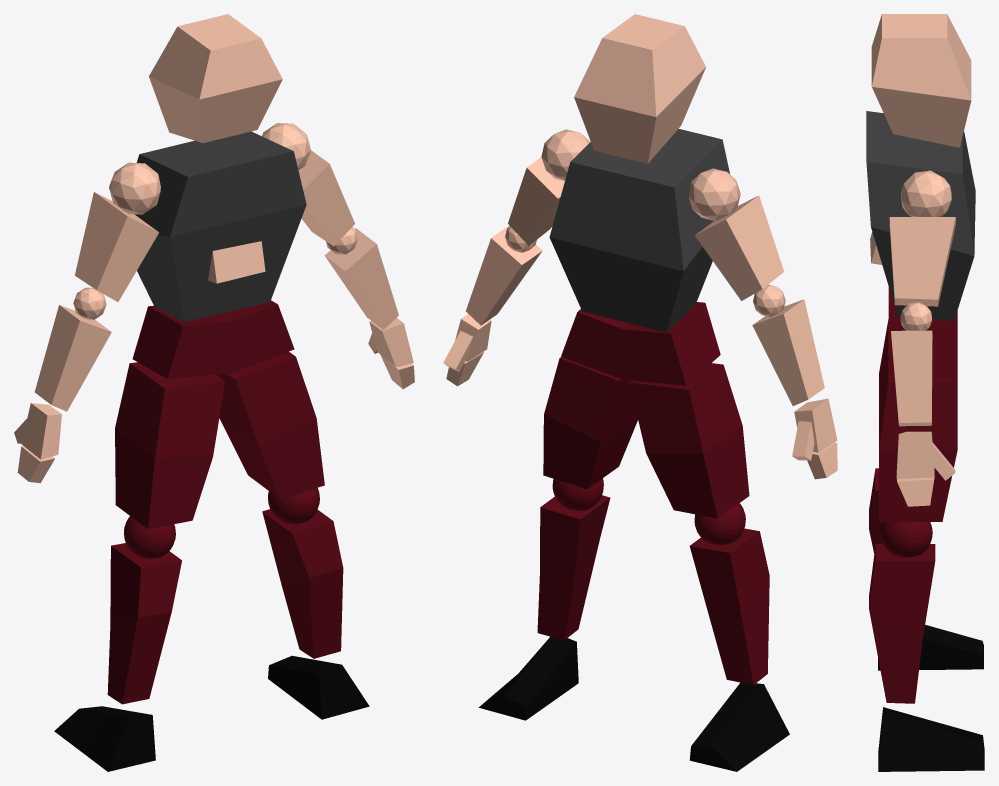
The model's file is player character.fbx.
The picture shows the model from 3 angles, left to right: view 1: azimuth 30°, elevation 25°; view 2: azimuth 150°, elevation 25°; view 3: azimuth 270°, elevation 25°; orthographic projection.
Parts seen in each view (by area): view 1: Cube.002, Cube.012, Cube, Cube.004, Cube.003, Cube.013, Cube.006, Cube.007, Cube.014, Cube.008, Cube.005, Icosphere.005 (+10 smaller); view 2: Cube.002, Cube, Cube.012, Cube.004, Cube.013, Cube.003, Cube.006, Cube.014, Cube.007, Cube.008, Cube.005, Icosphere.005 (+11 smaller); view 3: Cube, Cube.002, Cube.006, Cube.004, Cube.005, Icosphere.004, Icosphere.005, Cube.014, Cube.003, Icosphere.002, Icosphere.006, Sphere (+6 smaller).
Part boxes in pixels (x1,y1,x2,y2): Cube.002: (135,131,306,321); Cube.012: (115,362,225,529); Cube: (149,14,282,142); Cube.004: (216,351,324,499); Cube.003: (132,300,294,378); Cube.013: (107,543,181,704); Cube.006: (262,509,343,658); Cube.007: (75,192,158,301); Cube.014: (54,706,155,771); Cube.008: (34,305,111,411); Cube.005: (268,655,369,719); Icosphere.005: (324,228,398,329); Cube.002: (549,128,729,332); Cube: (574,14,705,163); Cube.012: (629,363,749,518); Cube.004: (543,356,637,489); Cube.013: (689,528,769,684); Cube.003: (561,302,720,385); Cube.006: (537,495,610,640); Cube.014: (689,682,789,771); Cube.007: (695,195,784,300); Cube.008: (752,299,824,405); Cube.005: (479,636,578,720); Icosphere.005: (466,225,542,325); Cube: (871,14,971,147); Cube.002: (866,111,975,320); Cube.006: (869,544,935,703); Cube.004: (879,361,957,522); Cube.005: (878,707,984,771); Icosphere.004: (889,217,955,306); Icosphere.005: (891,330,932,426); Cube.014: (878,624,983,670); Cube.003: (888,287,957,379); Icosphere.002: (901,170,951,216); Icosphere.006: (896,431,934,478); Sphere: (880,522,932,557).
Bounding box in the file's own units: 136 × 234 × 36.68.
